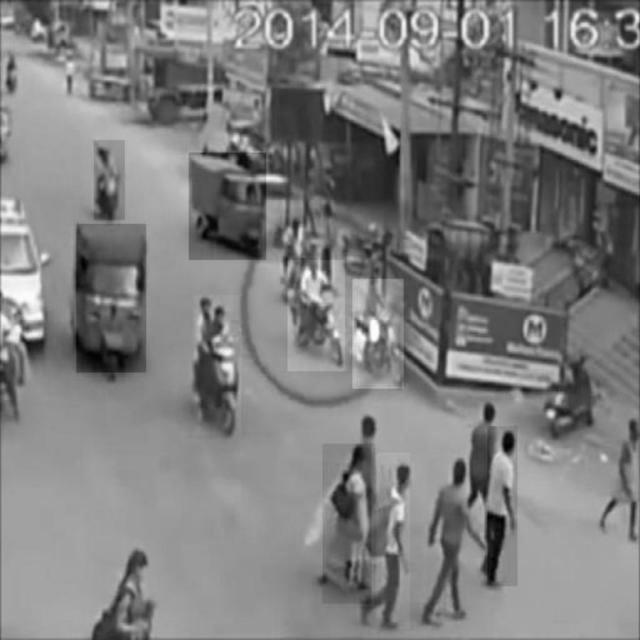person: (323, 444, 371, 604), (376, 453, 410, 629), (427, 458, 465, 615), (488, 427, 518, 587)
vehicle: (76, 224, 146, 372), (190, 152, 267, 260), (194, 295, 241, 435), (287, 260, 345, 371), (353, 279, 404, 389), (94, 141, 124, 221)
